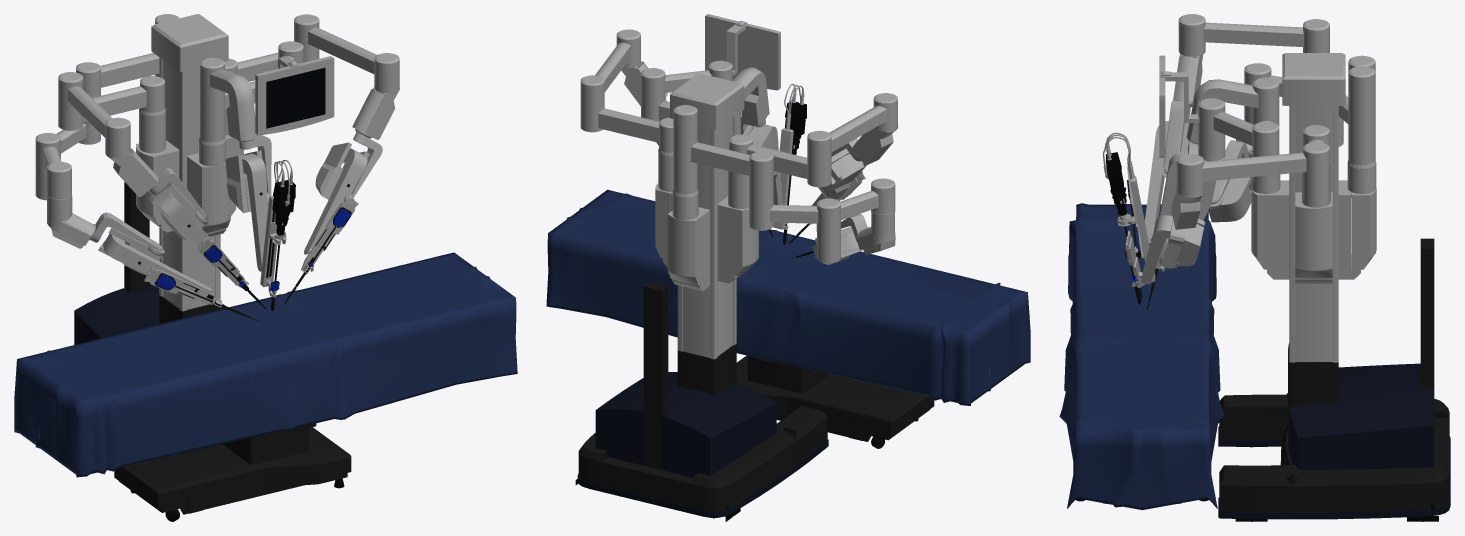
The model's file is Robotic Surgical System.FBX.
3 renders of one model, left to right at view 1: azimuth 30°, elevation 25°; view 2: azimuth 150°, elevation 25°; view 3: azimuth 270°, elevation 25°, orthographic. The views are drawn at different scales.
Visible parts, largest first — view 1: Surgical Bed, Surgical System; view 2: Surgical System, Surgical Bed; view 3: Surgical System, Surgical Bed.
Boxes of the visible parts, x1,y1,x2,y2 form: Surgical Bed: (14,252,517,521); Surgical System: (35,14,399,426); Surgical System: (575,14,898,521); Surgical Bed: (546,189,1030,448); Surgical System: (1103,14,1450,521); Surgical Bed: (1059,203,1224,510).
Bounding box in the file's own units: 2158 × 1858 × 1540.
